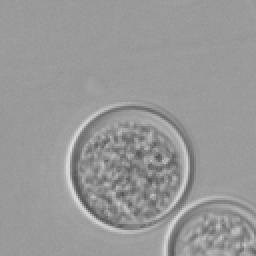picoshell: (64, 102, 192, 232), (162, 196, 254, 254)
